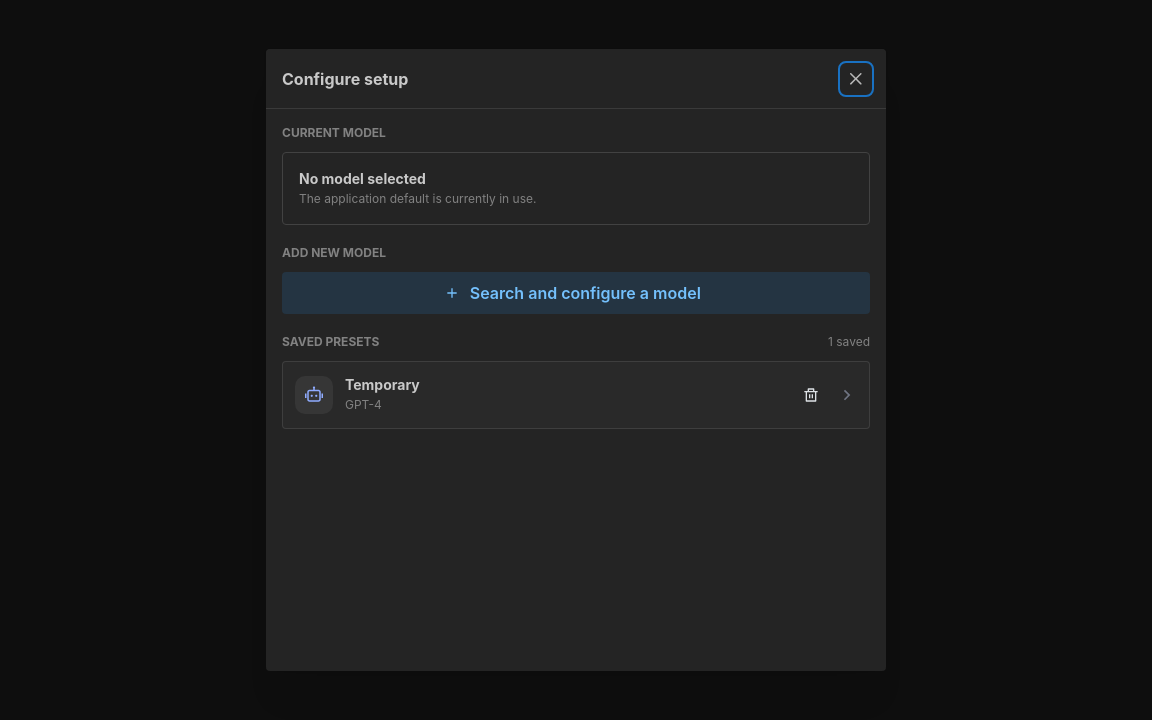
Test: ModelSelectorModal › deletes a saved setup from the list
The width and height of the screenshot is (1152, 720).
Click the button named "Delete preset Temporary" at (811, 395), box x1=797 y1=381 x2=825 y2=409
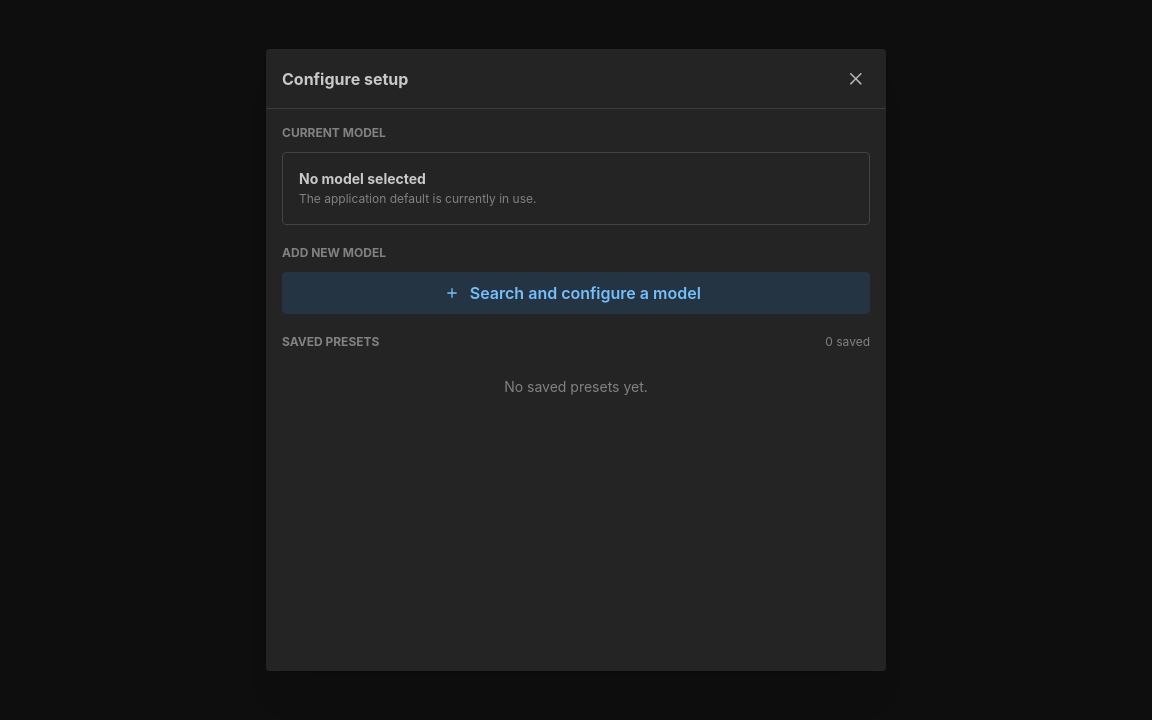
Result: the button "Temporary" is gone
